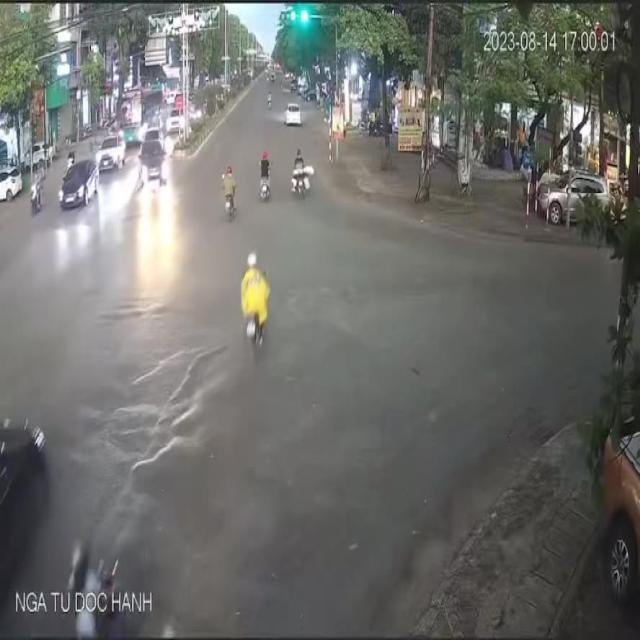normal: (81, 109, 181, 209), (217, 137, 319, 224), (230, 240, 286, 367)
